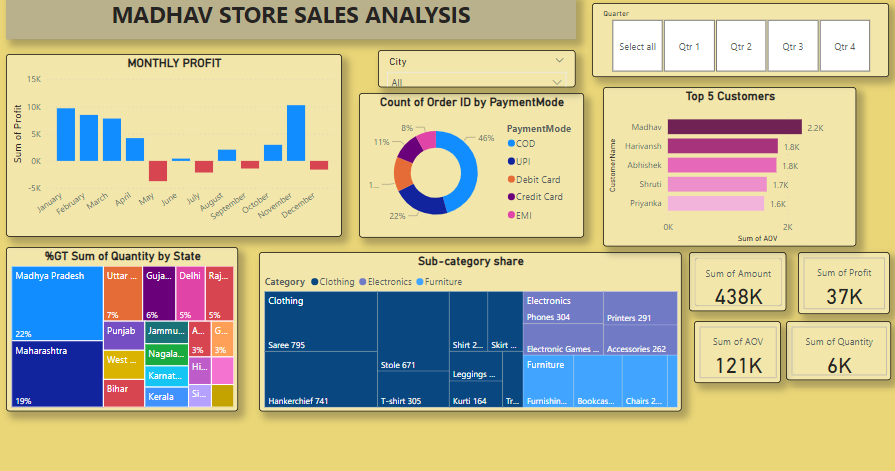

This screenshot's page, from the dashboard's own definition file:
{"tool":"powerbi","page":{"name":"Page 1","canvas":[1280,720],"ordinal":0},"visuals":[{"type":"textbox","box":[9.6,0,807.7,63.5],"z":0},{"type":"columnChart","title":"MONTHLY PROFIT","fields":{"Category":["Orders.Order Date.Variation.Date Hierarchy.Month"],"Y":["Sum(Details.Profit)"]},"box":[10.3,83.3,475.6,259],"z":1000},{"type":"treemap","title":"Sub-category share","fields":{"Group":["Details.Category"],"Values":["Sum(Details.Quantity)"],"Details":["Details.Sub-Category"]},"box":[369.1,364.2,598.8,225.9],"z":2000},{"type":"treemap","fields":{"Group":["Orders.State"],"Values":["Sum(Details.Quantity)"]},"box":[10.1,356.6,329.3,233.3],"z":3000},{"type":"donutChart","fields":{"Category":["Details.PaymentMode"],"Y":["CountNonNull(Details.Order ID)"]},"box":[509.9,138.3,318.5,204.9],"z":4000},{"type":"barChart","title":"Top 5 Customers","fields":{"Category":["Orders.CustomerName"],"Y":["Sum(Details.AOV)"]},"box":[855.6,130.9,359.3,225.9],"z":5000},{"type":"treemap","fields":{"Group":["Details.Category"],"Values":["Sum(Details.Quantity)"],"Details":["Details.Sub-Category"]},"box":[0,700,912.3,169.2],"z":6000},{"type":"cardVisual","fields":{"Data":["Sum(Details.Amount)"]},"box":[977.8,364.2,138.3,84],"z":7000},{"type":"cardVisual","fields":{"Data":["Sum(Details.Profit)"]},"box":[1132.1,364.2,129.6,87.7],"z":8000},{"type":"cardVisual","fields":{"Data":["Sum(Details.AOV)"]},"box":[985.2,461.7,123.5,87.7],"z":9000},{"type":"cardVisual","fields":{"Data":["Sum(Details.Quantity)"]},"box":[1116,461.7,149.4,84],"z":10000},{"type":"slicer","fields":{"Values":["Orders.Order Date.Variation.Date Hierarchy.Quarter"]},"box":[840.7,11.1,421,104.9],"z":11000},{"type":"slicer","fields":{"Values":["Orders.City"]},"box":[537.8,78.4,279.7,52.7],"z":12000}]}

Visuals, with their boxes on the page's 1280x720 design canvas (x1, y1, x2, y2). These are canvas units, not pixel positions in the 895x471 screenshot, which may show the page scaled, cropped or inside an application window:
textbox: detection(10, 0, 817, 64)
"MONTHLY PROFIT" columnChart: detection(10, 83, 486, 342)
"Sub-category share" treemap: detection(369, 364, 968, 590)
treemap - Orders.State x Sum(Details.Quantity): detection(10, 357, 339, 590)
donutChart - Details.PaymentMode x CountNonNull(Details.Order ID): detection(510, 138, 828, 343)
"Top 5 Customers" barChart: detection(856, 131, 1215, 357)
treemap - Details.Category x Sum(Details.Quantity): detection(0, 700, 912, 869)
cardVisual - Sum(Details.Amount): detection(978, 364, 1116, 448)
cardVisual - Sum(Details.Profit): detection(1132, 364, 1262, 452)
cardVisual - Sum(Details.AOV): detection(985, 462, 1109, 549)
cardVisual - Sum(Details.Quantity): detection(1116, 462, 1265, 546)
slicer - Orders.Order Date.Variation.Date Hierarchy.Quarter: detection(841, 11, 1262, 116)
slicer - Orders.City: detection(538, 78, 818, 131)
